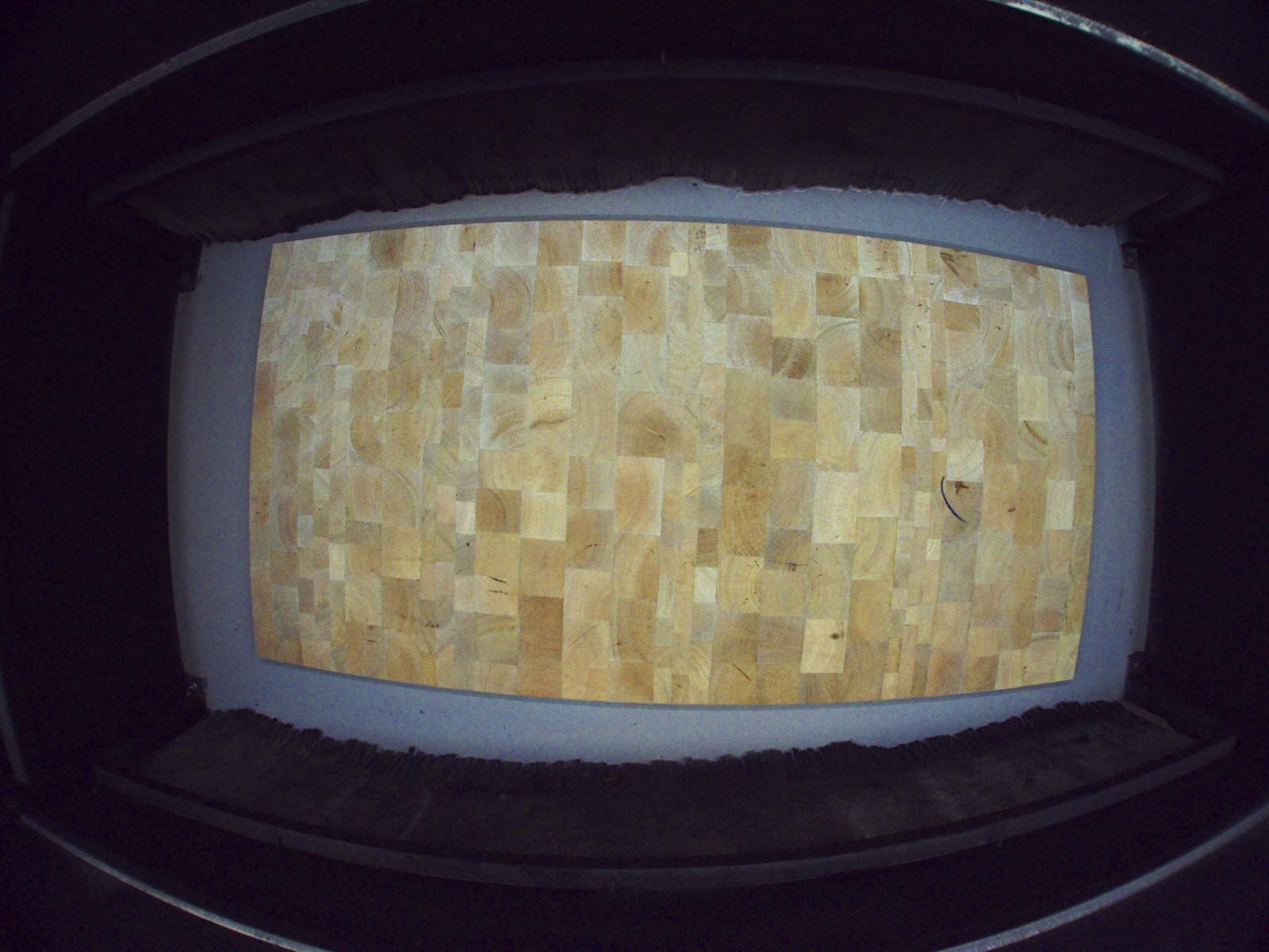nudillo: (953, 479, 971, 496)
